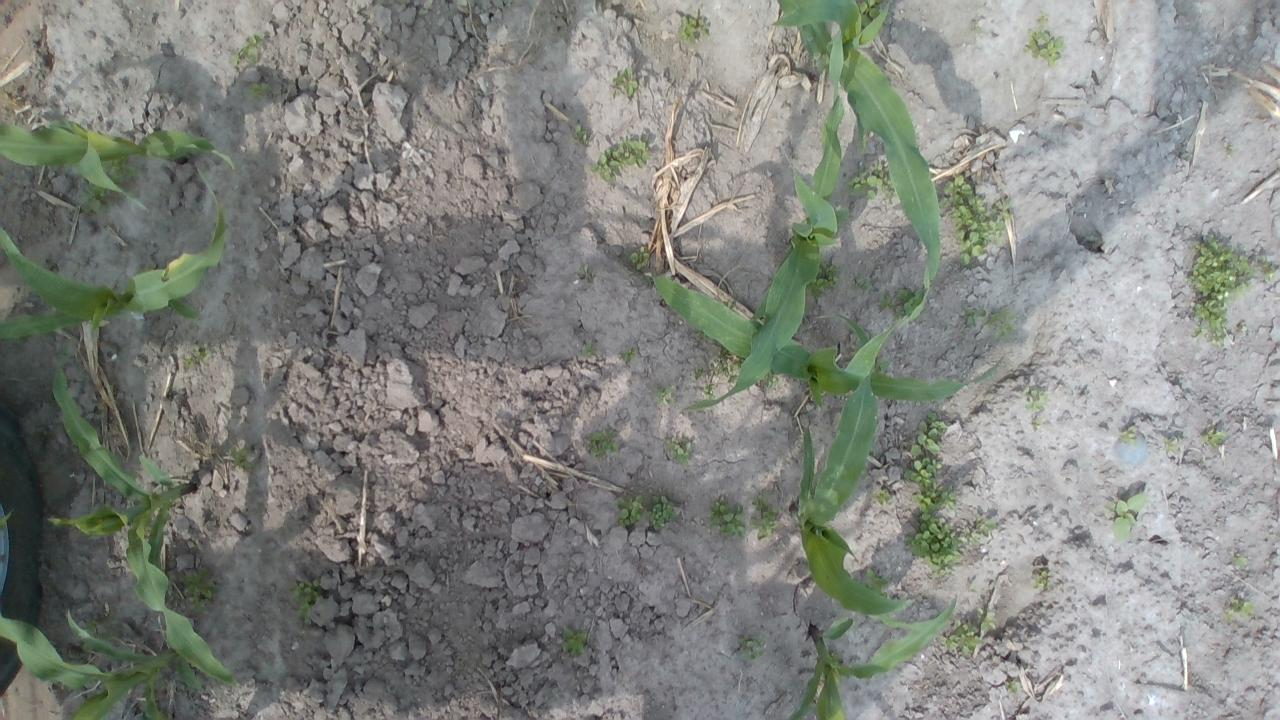Maize: (682, 24, 851, 413), (44, 356, 242, 688), (646, 268, 1006, 404), (776, 3, 946, 286), (784, 372, 916, 620), (0, 219, 236, 344), (1, 115, 236, 216), (0, 608, 212, 717), (784, 590, 964, 718)
Weeds: (1187, 226, 1278, 353), (908, 410, 968, 578), (938, 169, 1020, 266), (695, 346, 768, 392), (71, 158, 132, 198), (595, 137, 650, 180), (850, 162, 899, 204), (948, 611, 997, 651), (1024, 19, 1067, 63), (1113, 488, 1148, 540), (180, 566, 217, 612), (642, 494, 684, 534), (708, 494, 742, 537), (960, 304, 1010, 332), (752, 498, 784, 541), (292, 578, 320, 623), (614, 495, 646, 532), (235, 30, 262, 72), (588, 428, 620, 462), (970, 507, 996, 548), (558, 626, 590, 659), (878, 288, 918, 314), (1022, 389, 1046, 430), (677, 15, 708, 44), (1227, 592, 1256, 623), (628, 246, 652, 278), (606, 73, 638, 97), (1034, 569, 1057, 601), (669, 438, 698, 462), (233, 449, 259, 472), (1206, 419, 1228, 446), (742, 636, 762, 662), (572, 121, 592, 144), (659, 386, 677, 408), (875, 486, 893, 508), (245, 80, 268, 94), (576, 344, 596, 358)
